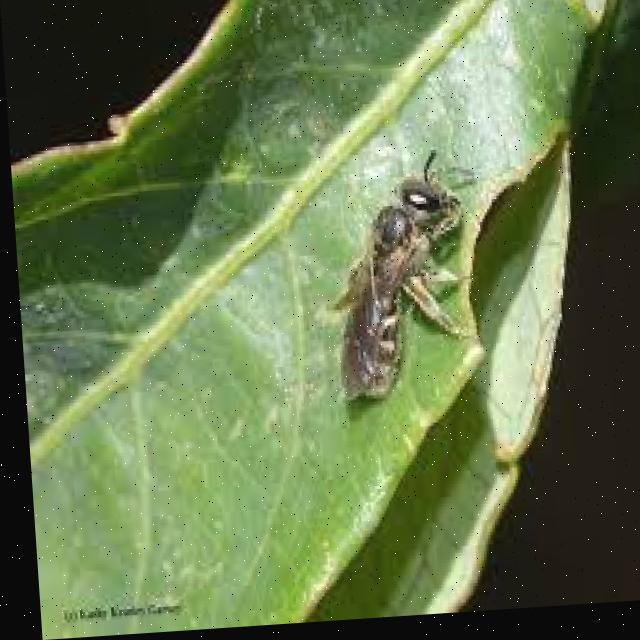Lasioglossum: (312, 149, 479, 397)
